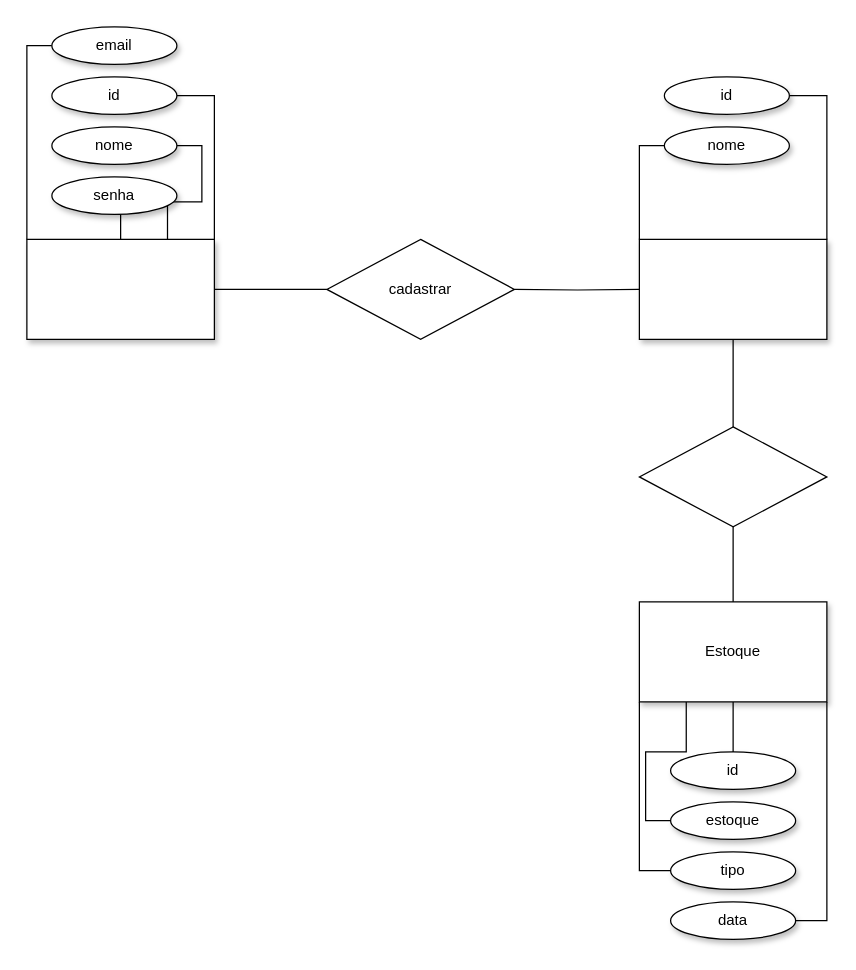
The diagram is 856 pixels wide and 970 high, and some of its shapes have lost their labels. The centre of each missing label's shape, as x and y in pixels:
possue: pixel 732 476
Produto: pixel 733 290
Usuario: pixel 121 290
